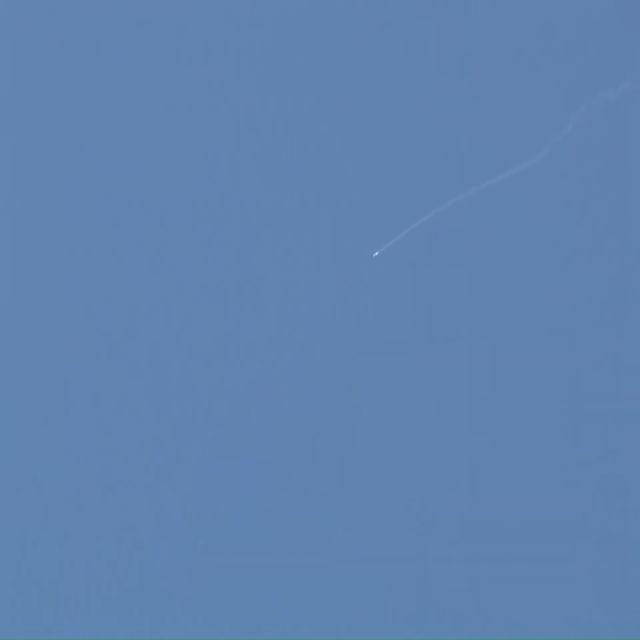Rocket: (373, 252, 379, 258)
